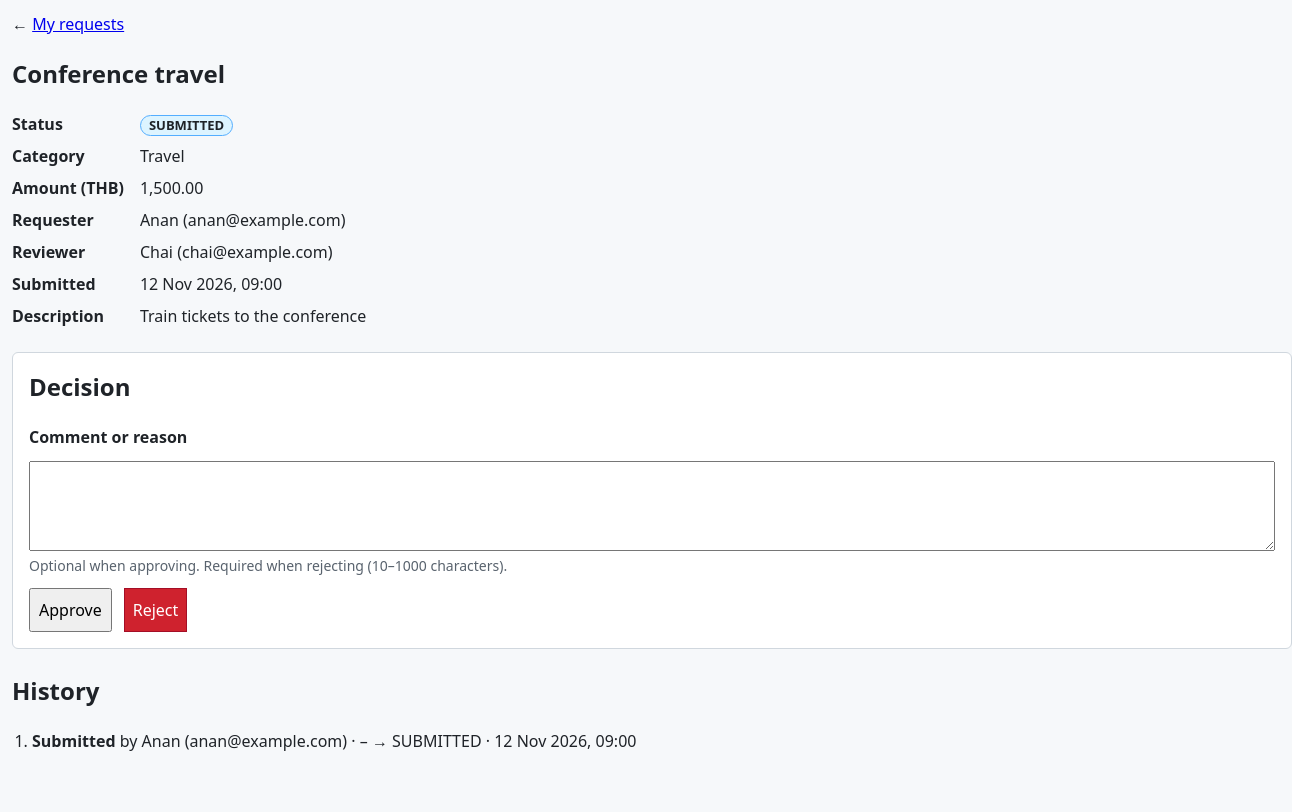
RequestDetailPage decisions (F-04b) › shows the API message on 409 and reloads the request
Expected: the element "Decision" is shown, [12,352,1291,649]
Click the button "Approve". click: x=70, y=610
box: [29,588,112,632]
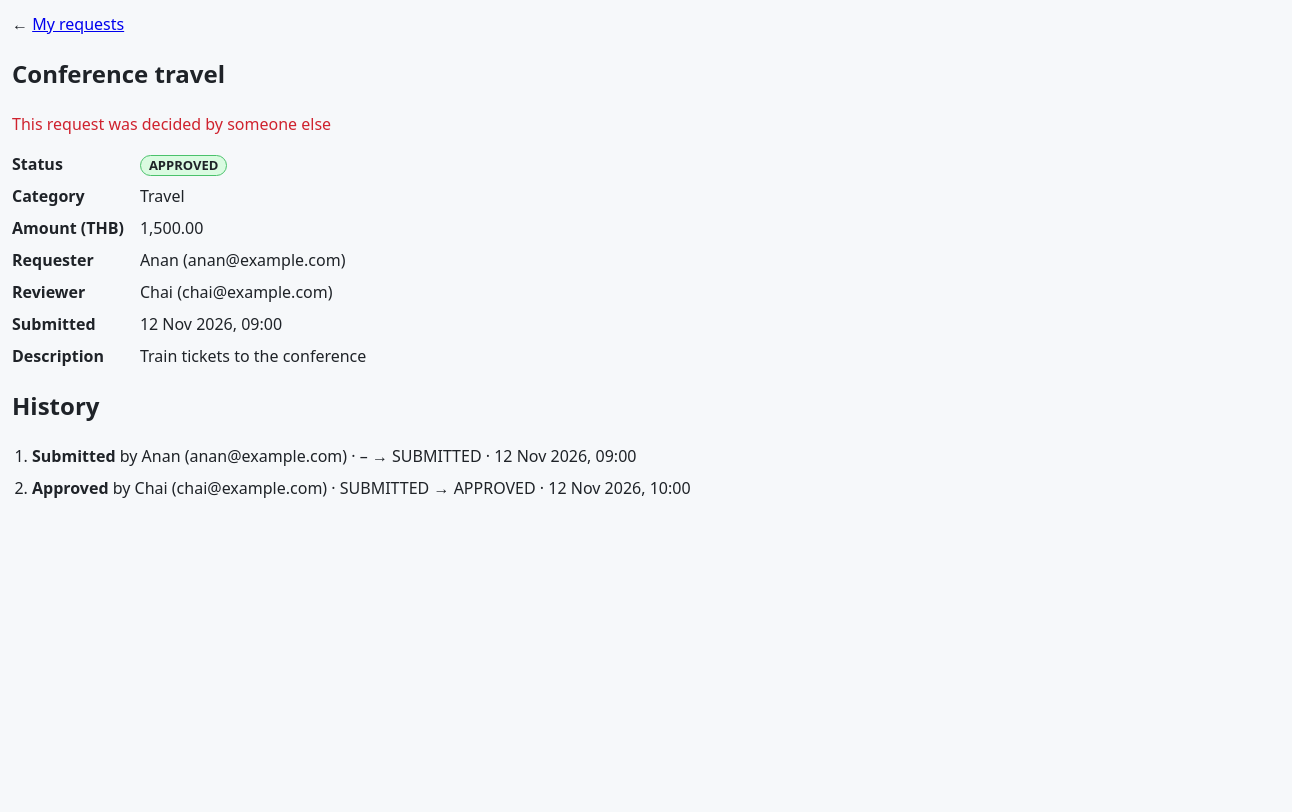
Expected: the message reads "This request was decided by someone else", [12,113,331,135]
Expected: the text "SUBMITTED → APPROVED" is shown, [340,477,536,499]
Expected: the element named "Request details" shows "APPROVED", [149,156,218,174]
